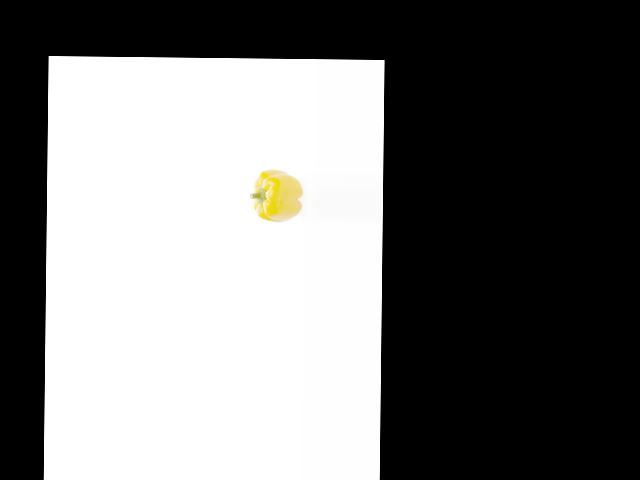bell_pepper: (247, 165, 304, 221)
